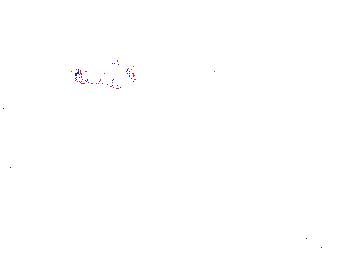redtail glassfish: (70, 60, 139, 88)
siberian prawn: (1, 217, 36, 252)
